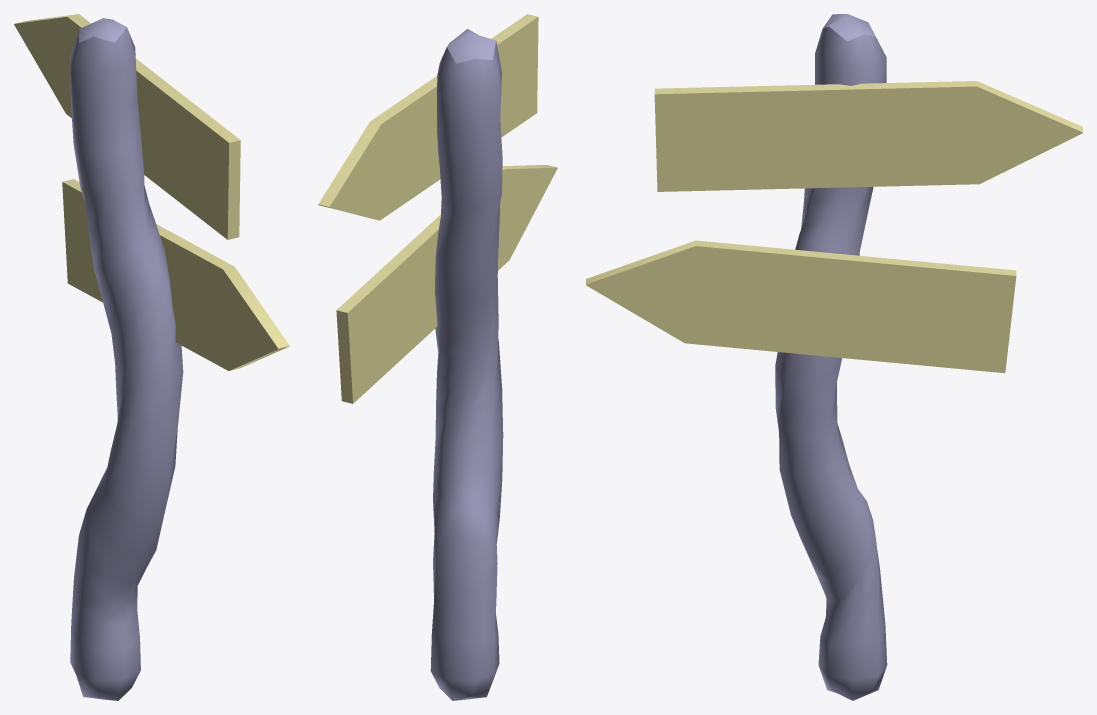
Rendered from signpost.fbx.
3 views of the same model, side by side, from view 1: azimuth 30°, elevation 25°; view 2: azimuth 150°, elevation 25°; view 3: azimuth 270°, elevation 25° (orthographic). The views are drawn at different scales.
Parts seen in each view (by area): view 1: polySurface3; view 2: polySurface3; view 3: polySurface3.
Part boxes in pixels (x1,y1,x2,y2): polySurface3: [14, 14, 289, 700]; polySurface3: [318, 14, 557, 700]; polySurface3: [586, 14, 1082, 700].
Bounding box in the file's own units: 1.43 × 10.95 × 7.23.
